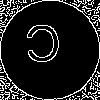C: (25, 25, 61, 71)
